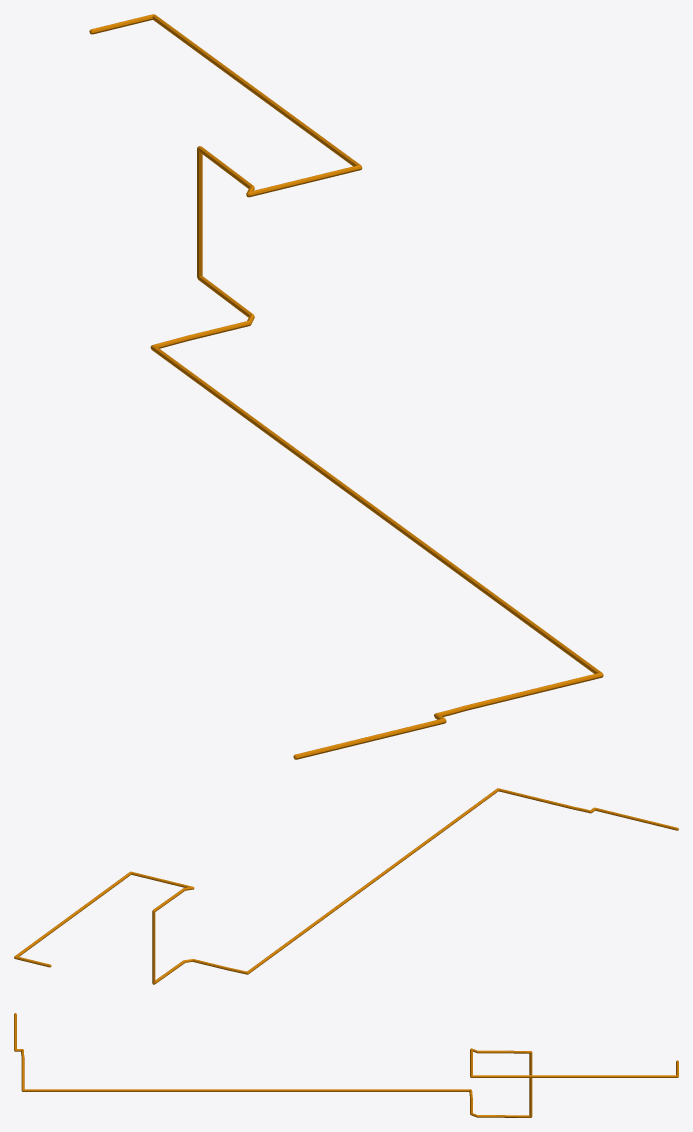
3 renders of one model, top to bottom at view 1: azimuth 30°, elevation 25°; view 2: azimuth 150°, elevation 25°; view 3: azimuth 270°, elevation 25°, orthographic. The views are drawn at different scales.
Size of the model in its own units: 2131 by 520 by 4681.
